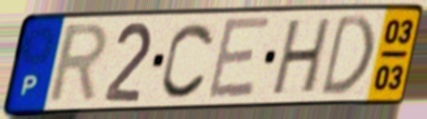2: (102, 19, 153, 104)
C: (159, 19, 218, 101)
D: (317, 12, 377, 100)
E: (204, 15, 274, 104)
H: (268, 15, 335, 99)
R: (44, 20, 111, 108)
